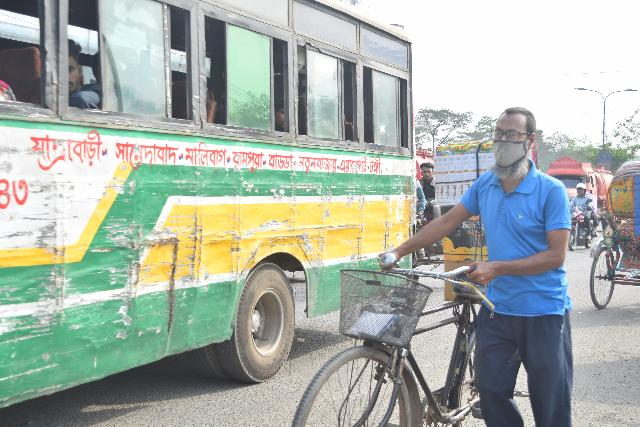bus: (0, 0, 421, 416)
motorcycle: (563, 196, 601, 258)
truck: (544, 152, 616, 208)
